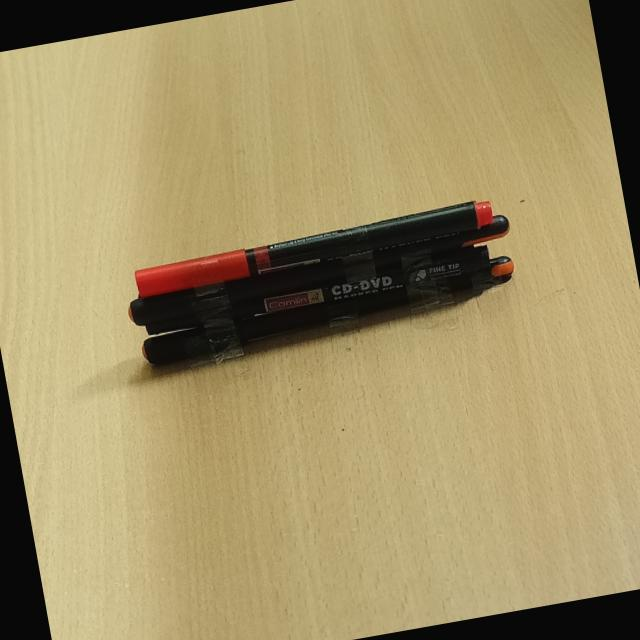marker: (110, 178, 522, 294)
pen: (91, 221, 528, 320)
